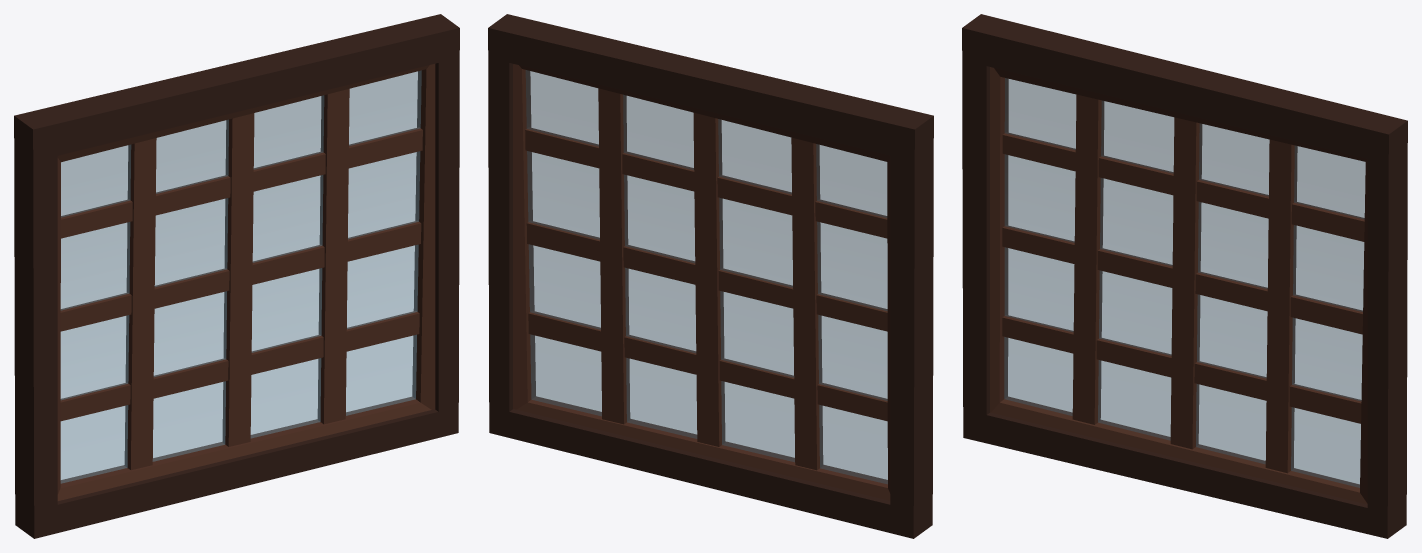
The model's file is Window 4x4 Closed.glb.
The picture shows the model from 3 angles, left to right: view 1: azimuth 30°, elevation 25°; view 2: azimuth 150°, elevation 25°; view 3: azimuth 330°, elevation 25°; orthographic projection.
Parts seen in each view (by area): view 1: Window 4x4 Closed; view 2: Window 4x4 Closed; view 3: Window 4x4 Closed.
Part boxes in pixels (bbox=[...]): Window 4x4 Closed: bbox=[14, 14, 459, 538]; Window 4x4 Closed: bbox=[488, 14, 933, 538]; Window 4x4 Closed: bbox=[962, 14, 1407, 538].
Size of the model in its own units: 2.07 by 1.9 by 0.16.
2 materials, 2 textured.
